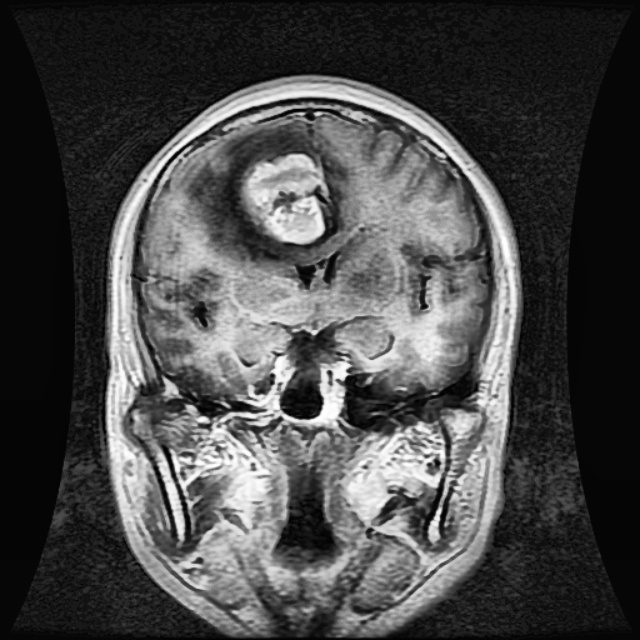Glioma: (240, 152, 328, 245)
